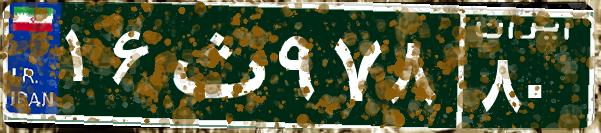0: (525, 38, 570, 115)
1: (57, 26, 110, 107)
6: (110, 28, 158, 105)
7: (330, 28, 385, 110)
8: (385, 28, 445, 110), (475, 38, 525, 113)
9: (273, 28, 330, 110)
ث: (158, 15, 273, 115)
